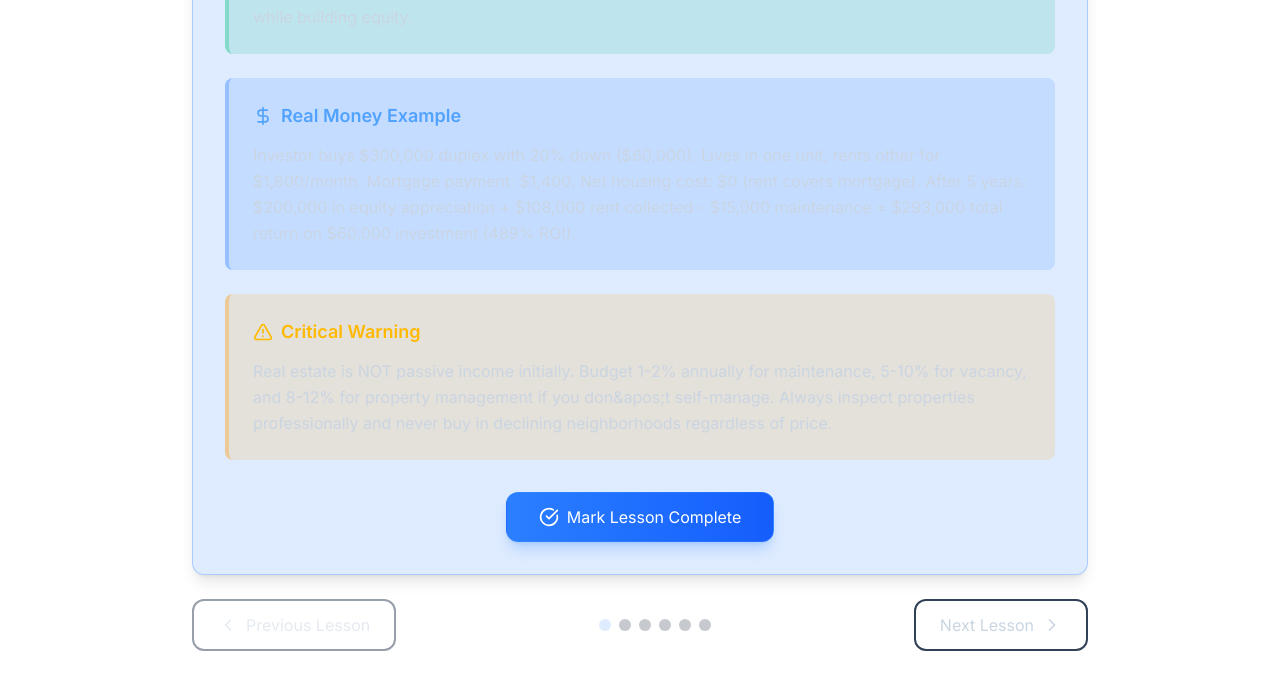
RealEstateAlternativesLessonEnhanced › navigates between lessons correctly
This screenshot has width=1280, height=683.
(page scrolled)
Note: Find next button and click
Click the button "Next Lesson".
click(1001, 625)  # box [914,599,1088,651]
(page scrolled)
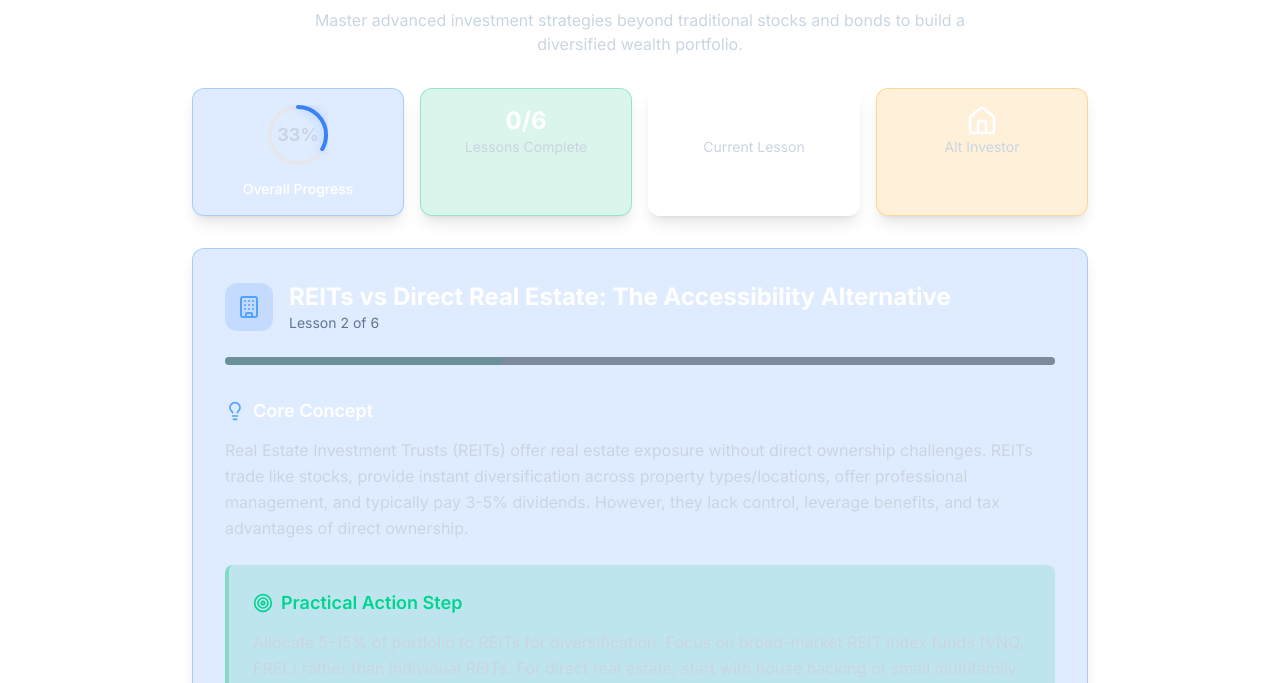
Now the text "Lesson 2 of 6" is shown, box [289,314,379,331]
